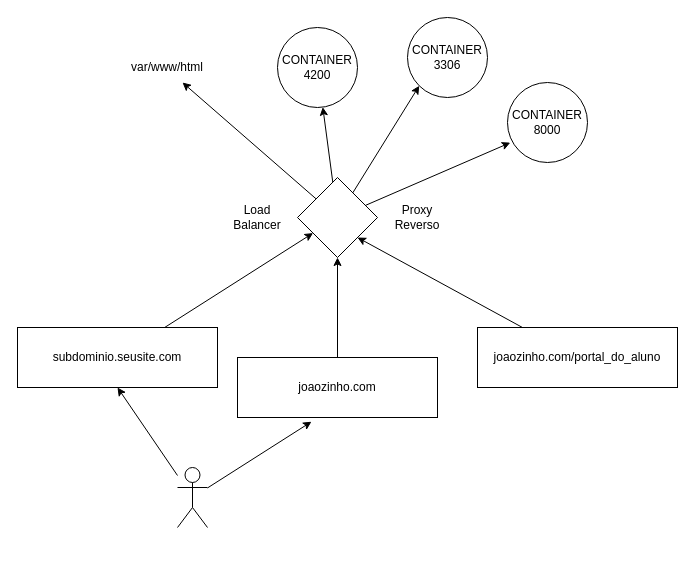
The diagram is 695 pixels wide and 566 high, and some of its shapes have lost their labels. Here are the shapes that lost their labels. From the top down, the box of each, then its label:
(296, 176, 378, 258): NGINX
(176, 466, 208, 528): Actor
